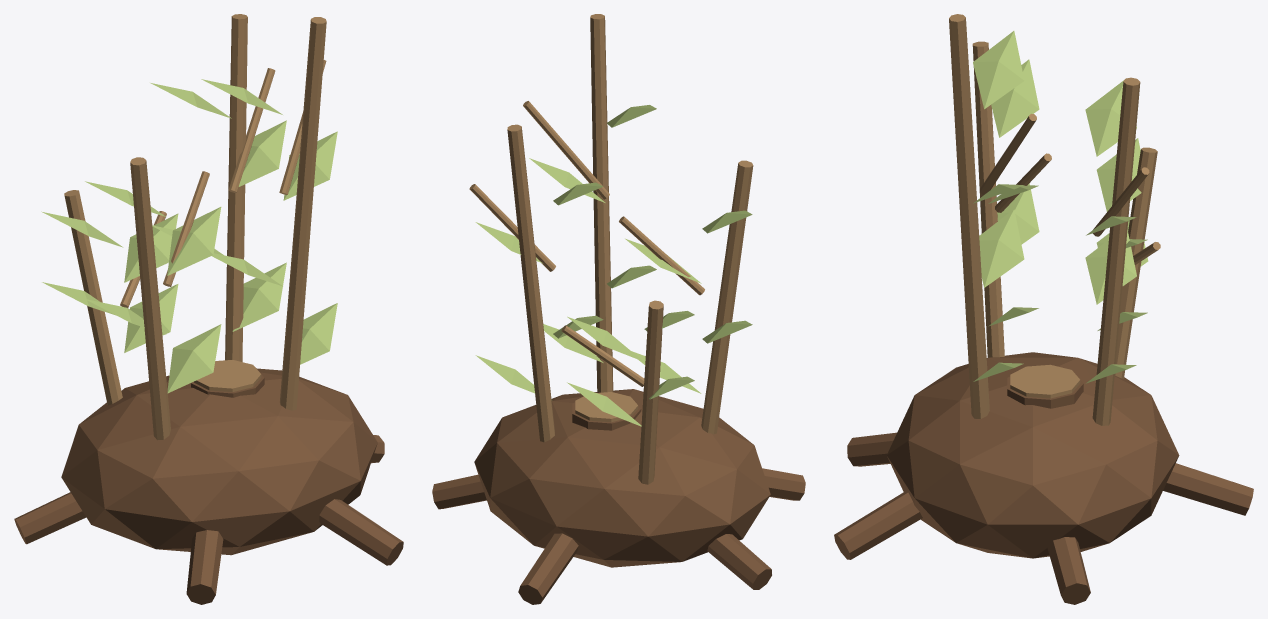
3 renders of one model, left to right at view 1: azimuth 30°, elevation 25°; view 2: azimuth 150°, elevation 25°; view 3: azimuth 270°, elevation 25°, orthographic. The views are drawn at different scales.
Parts seen in each view (by area): view 1: WW-001 Regrowing coppice stool batched; view 2: WW-001 Regrowing coppice stool batched; view 3: WW-001 Regrowing coppice stool batched.
Boxes of the visible parts, <box> form: WW-001 Regrowing coppice stool batched: <box>14,14,403,604</box>; WW-001 Regrowing coppice stool batched: <box>432,14,805,604</box>; WW-001 Regrowing coppice stool batched: <box>834,14,1253,604</box>.
Size of the model in its own units: 1.15 by 1.61 by 1.12.
